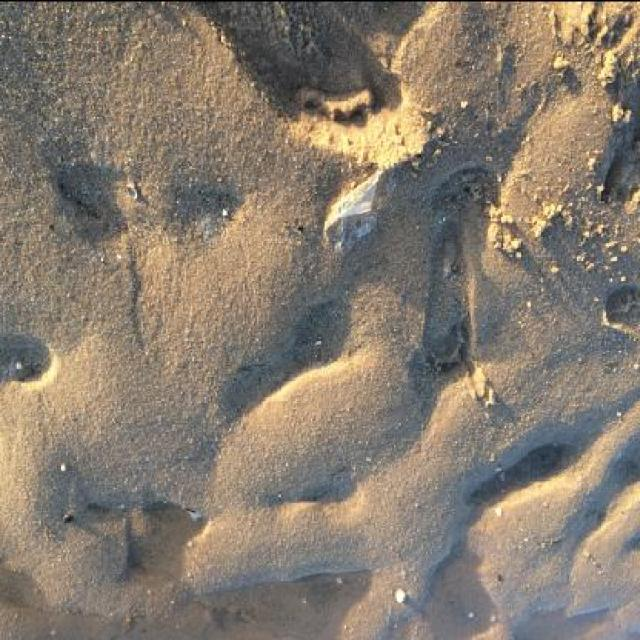plastic: (322, 169, 380, 234)
